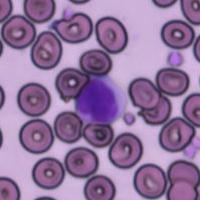M: (74, 72, 127, 125)
